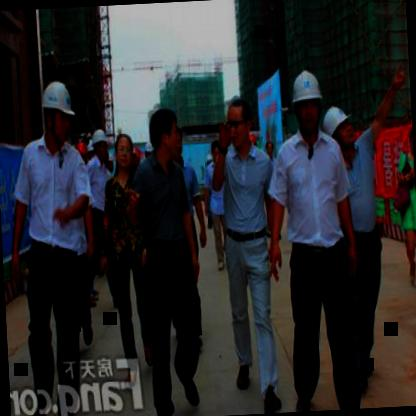head: (147, 104, 182, 166), (224, 98, 254, 152), (114, 133, 135, 171), (407, 122, 413, 158)
helmet: (38, 75, 78, 147), (287, 64, 324, 138), (324, 103, 357, 153), (90, 124, 112, 160)
